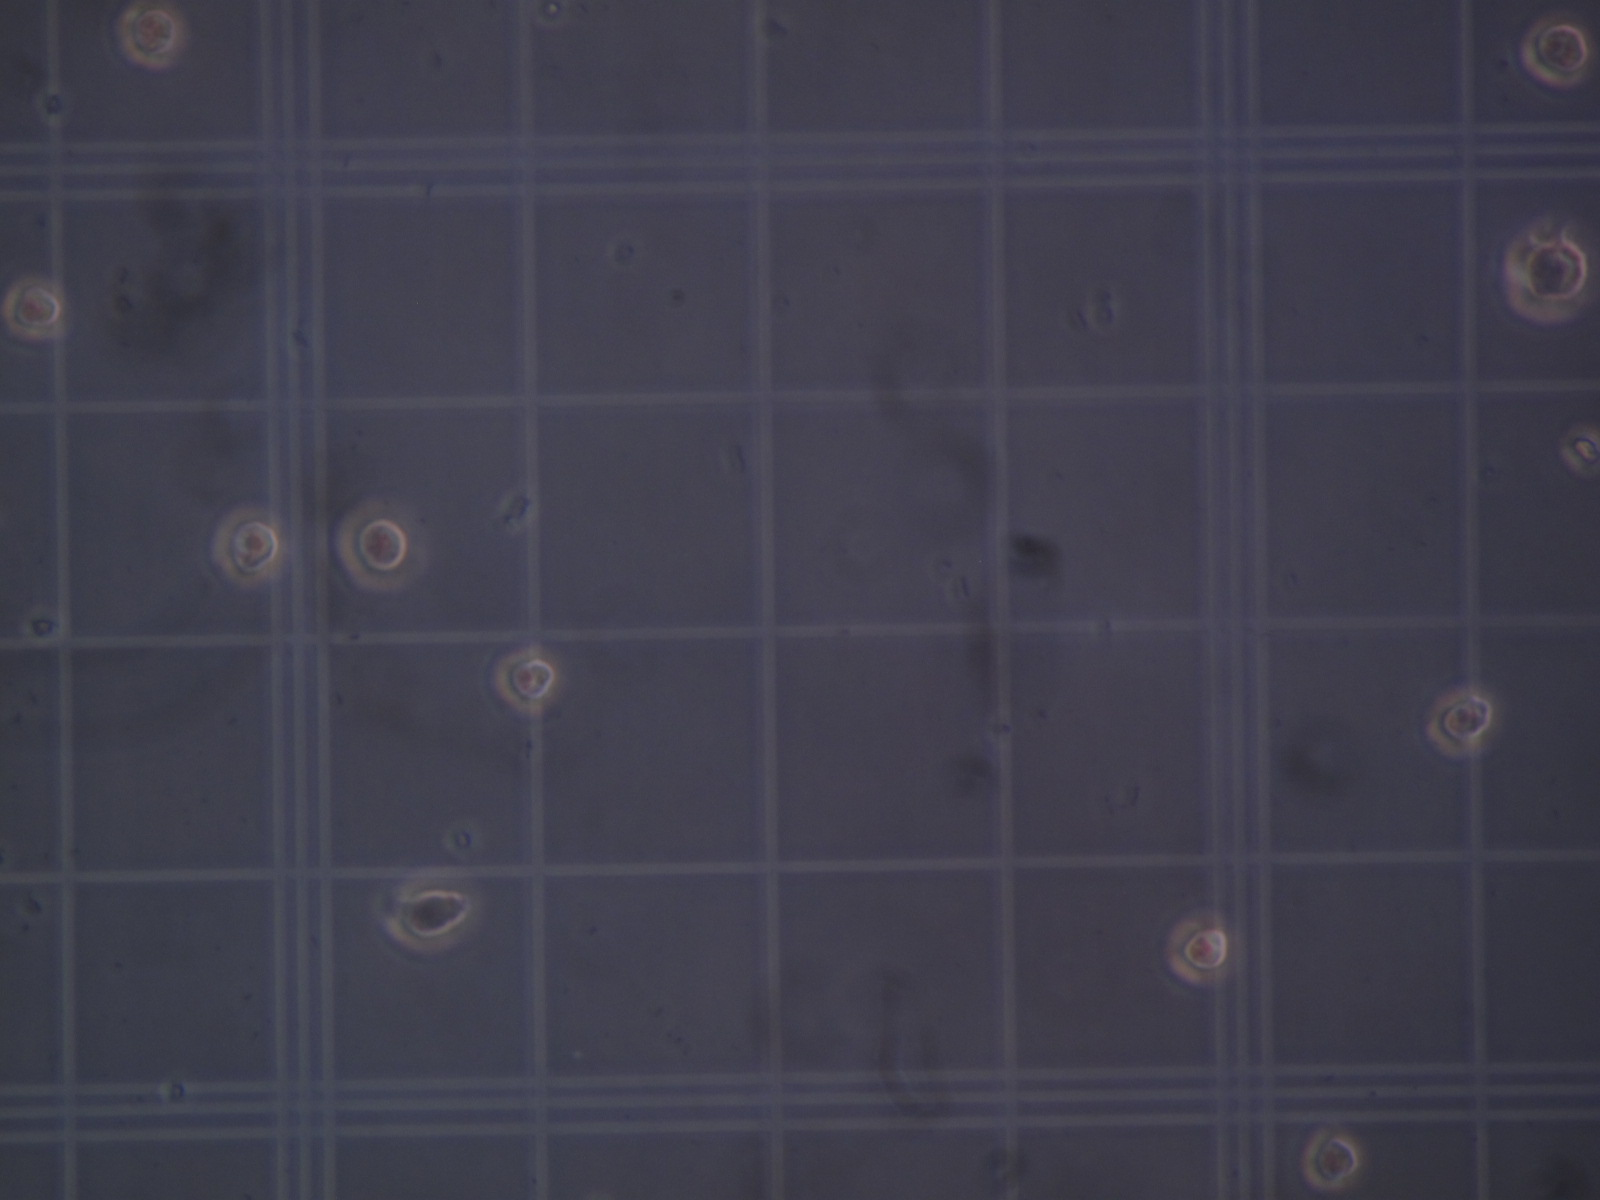hemo: (334, 497, 427, 592), (1503, 226, 1592, 323), (386, 880, 483, 953), (210, 505, 283, 585), (1521, 16, 1591, 87), (1426, 689, 1494, 758), (493, 647, 558, 715), (1165, 918, 1230, 987), (115, 4, 181, 69), (3, 275, 66, 340), (1301, 1129, 1361, 1190)
